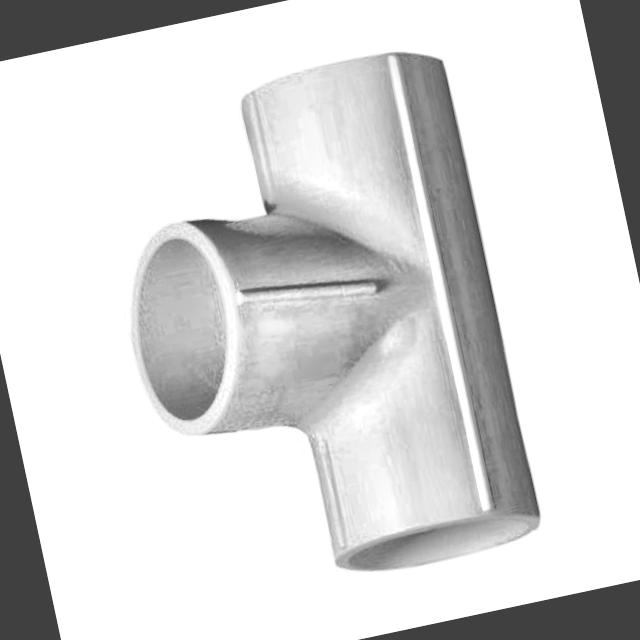EQUALTEE: (124, 48, 541, 572)
